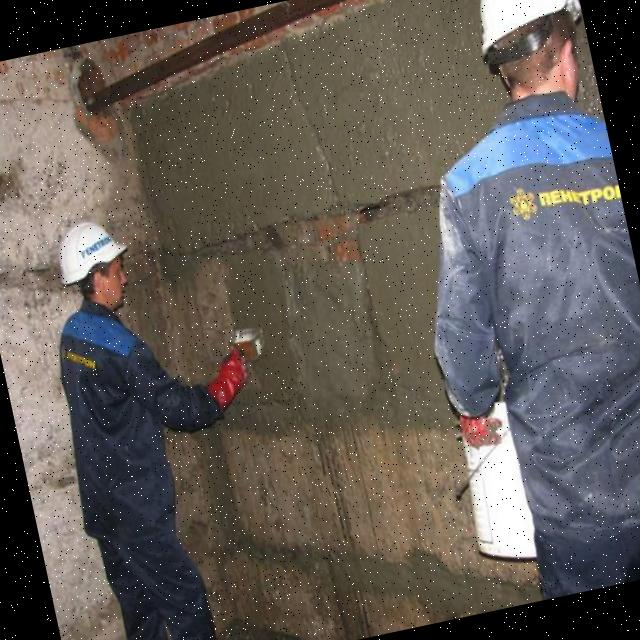Helmet: (461, 1, 587, 69), (51, 217, 134, 294)
NoJacket: (444, 64, 640, 531), (42, 289, 181, 536)
